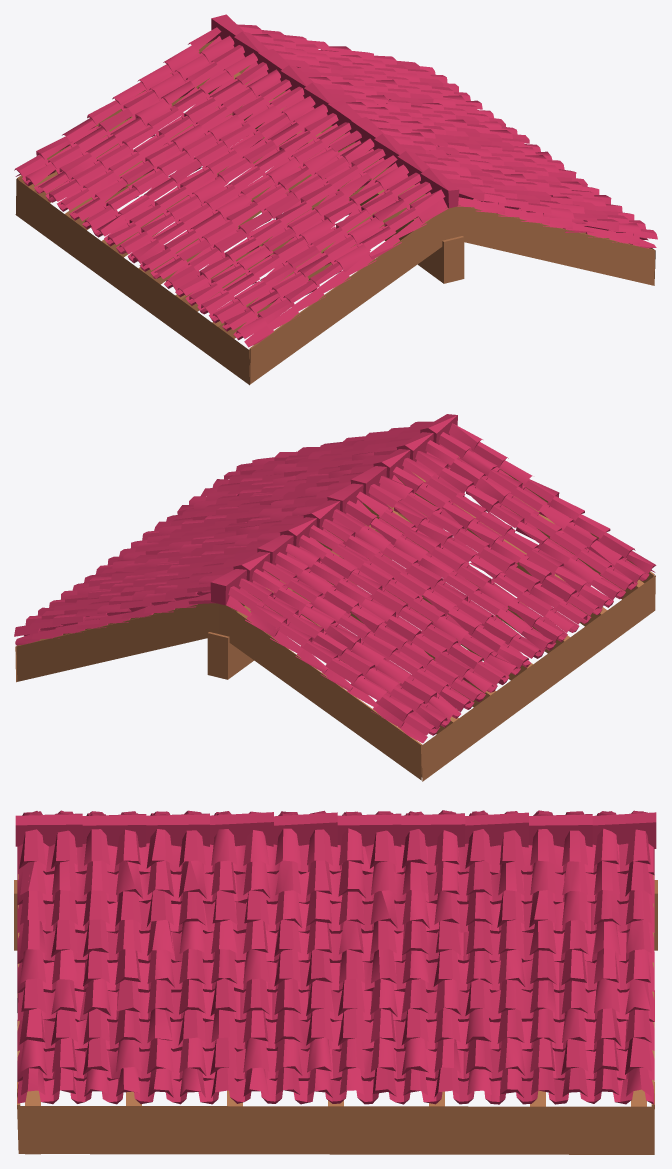
Rendered from PinkTileRoof.glb.
3 views of the same model, one above another, from view 1: azimuth 30°, elevation 25°; view 2: azimuth 150°, elevation 25°; view 3: azimuth 270°, elevation 25° (orthographic). The views are drawn at different scales.
Parts seen in each view (by area): view 1: romanTilesRoof; view 2: romanTilesRoof; view 3: romanTilesRoof.
Part boxes in pixels (x1,y1,x2,y2): romanTilesRoof: (14,14,657,385); romanTilesRoof: (14,414,656,781); romanTilesRoof: (14,810,657,1154).
Size of what is drawn, in the model's own units: 4.12 by 1.43 by 4.04.
1 material, 1 textured.
